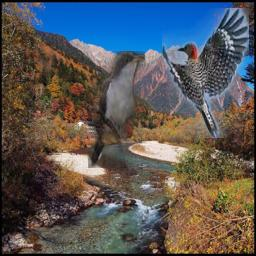Cuckoo: (88, 51, 145, 168)
Woodpecker: (162, 8, 249, 138)
